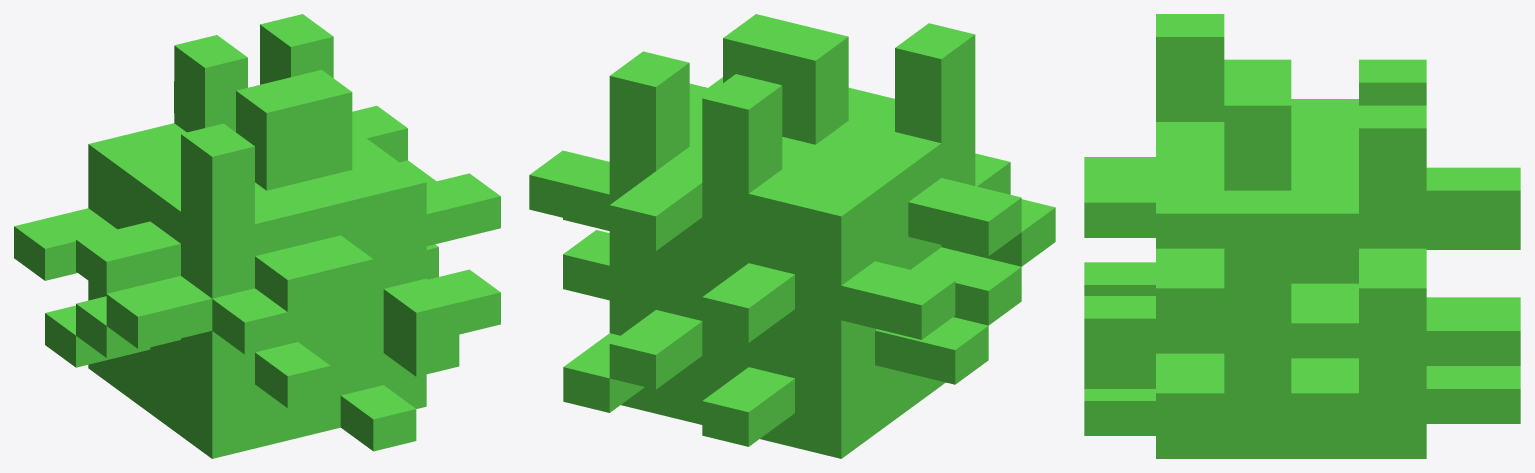
File: firstfloor.glb
The picture shows the model from 3 angles, left to right: view 1: azimuth 30°, elevation 25°; view 2: azimuth 150°, elevation 25°; view 3: azimuth 270°, elevation 25°; orthographic projection. The views are drawn at different scales.
Visible parts, largest first — view 1: 1stFloor; view 2: 1stFloor; view 3: 1stFloor.
Boxes of the visible parts, left/top/right/bottom form: 1stFloor: left=14, top=14, right=500, bottom=458; 1stFloor: left=529, top=14, right=1055, bottom=458; 1stFloor: left=1084, top=14, right=1520, bottom=458.
Size of the model in its own units: 3.39 by 2.69 by 3.22.
